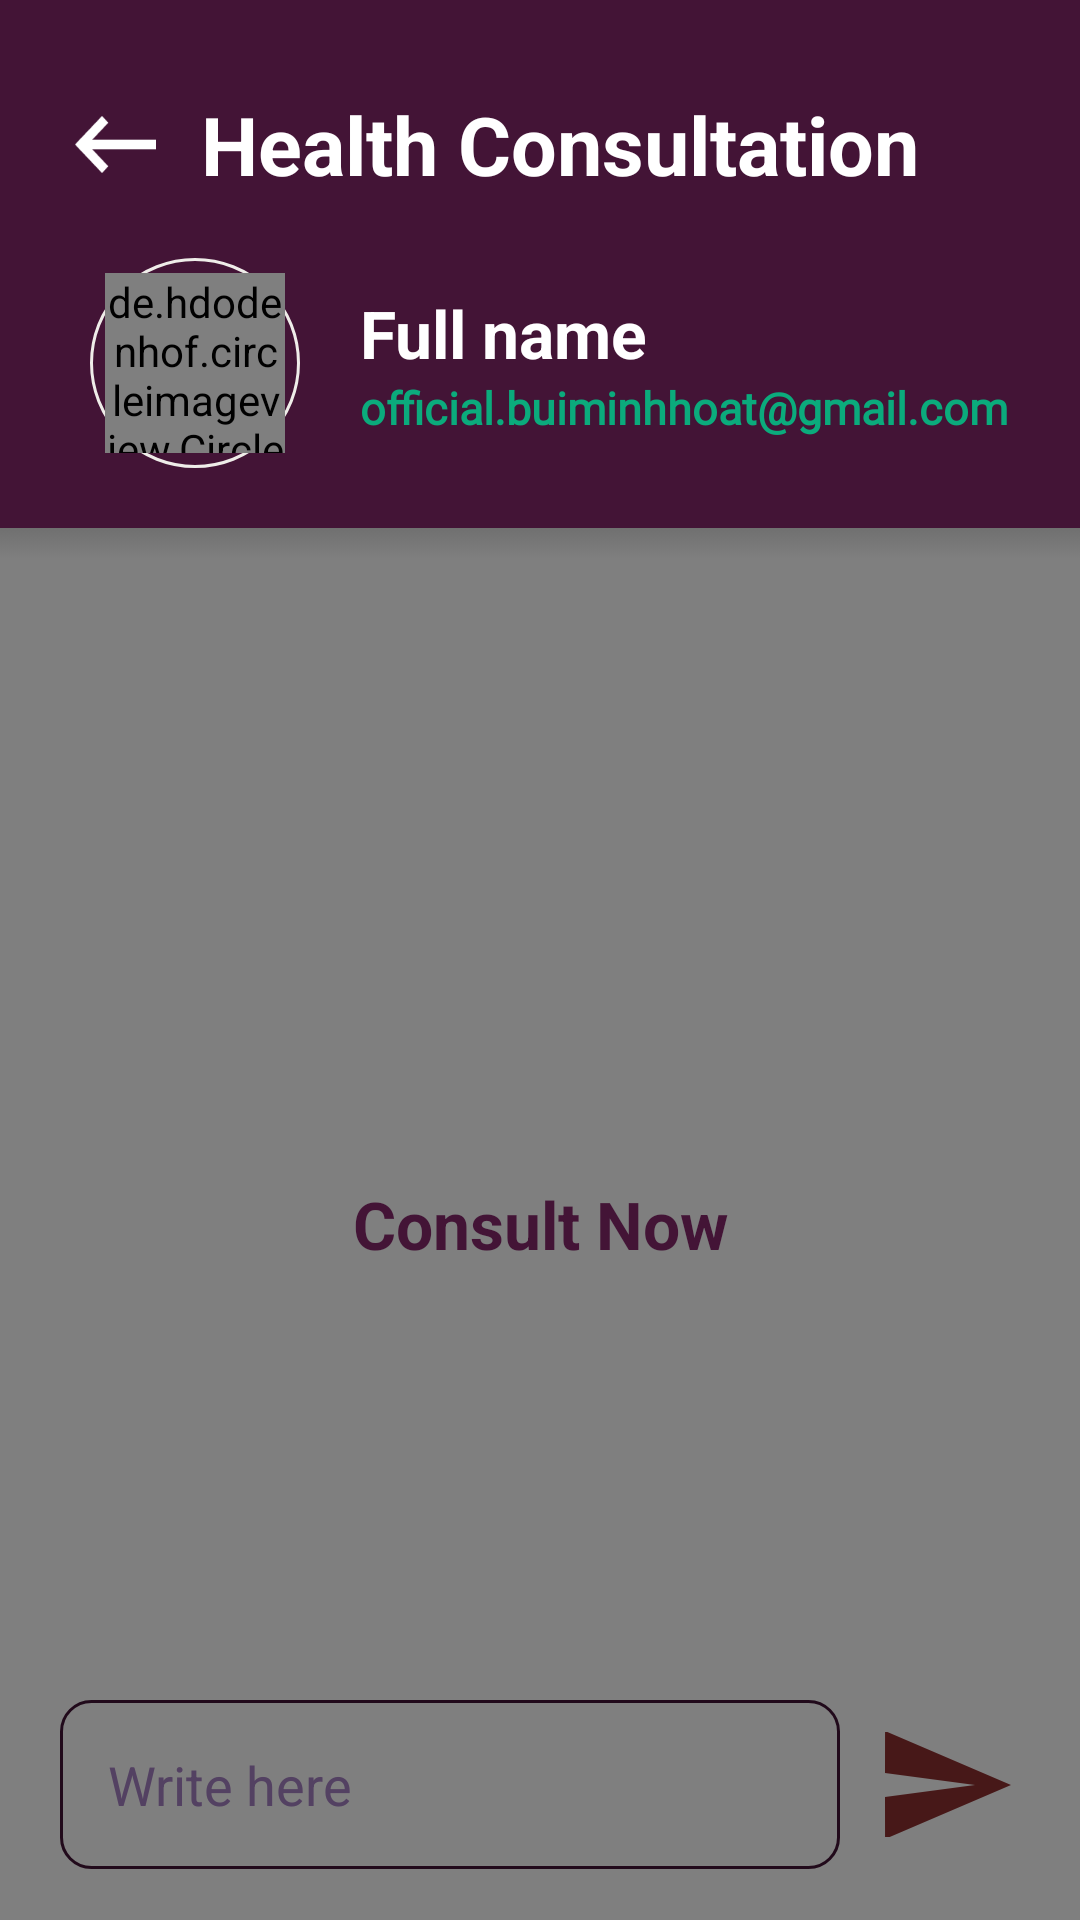

Named icons in this screenshot (1080*1920) and their centers, (x=x, y=y):
arrow type: (x=115, y=144)
send: (x=947, y=1784)
